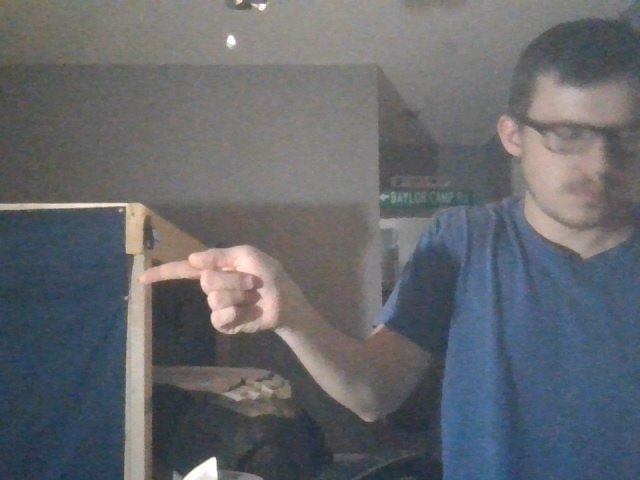G: (121, 239, 287, 349)
